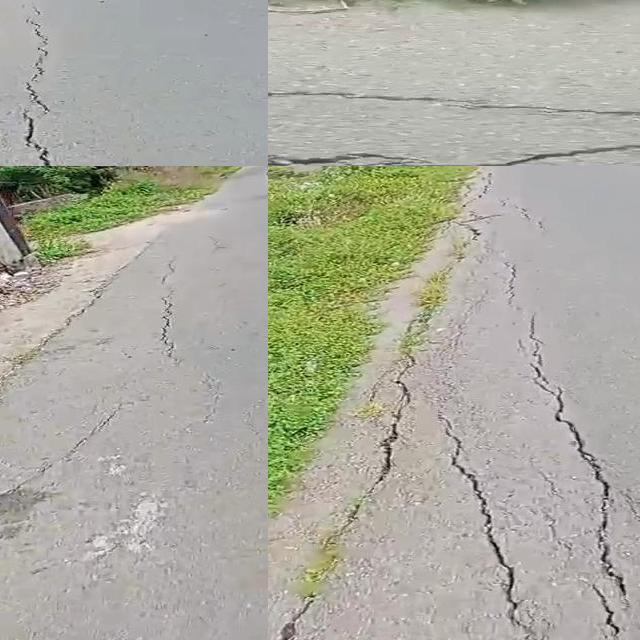Melintang: (268, 78, 640, 130), (268, 134, 640, 166)
Memanjang: (494, 258, 640, 640), (424, 402, 550, 640), (4, 0, 65, 166), (148, 252, 185, 376)
